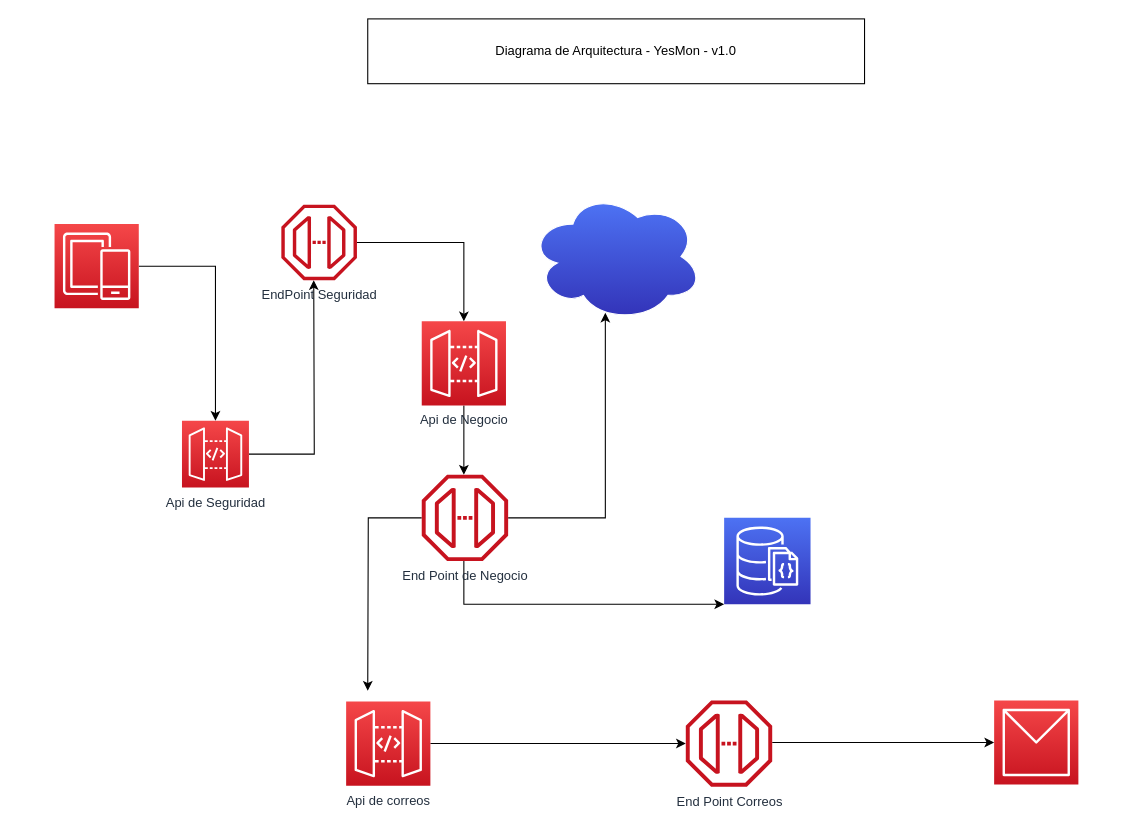
The diagram is 1126 pixels wide and 828 high, and some of its shapes have lost their labels. The shapes that lost their labels are listed below. From the top down, each one's box as (x1, y1, x2, y2) in pixels, then its label:
(53, 223, 139, 308): Acceso a Web - Front End
(529, 191, 703, 321): REPOSITORIO: Imágenes, videos, documentos.
(723, 517, 811, 604): Mongo Db Cloud
(993, 699, 1078, 785): Servidor de correos Web
